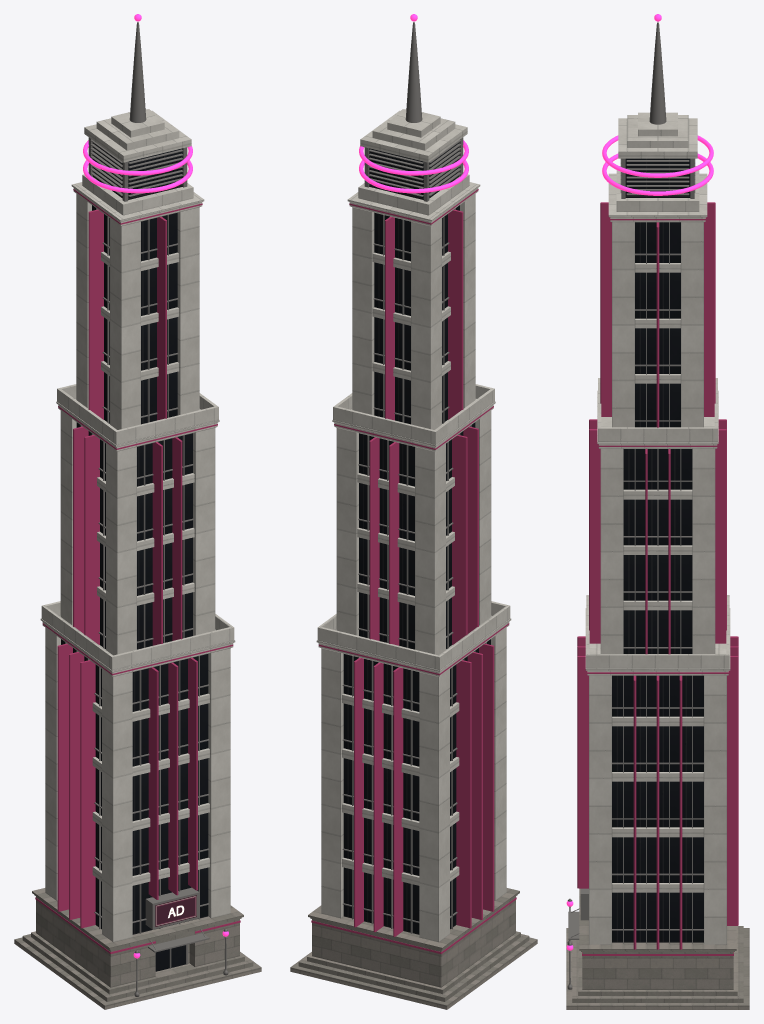
The model's file is s31-aerospace-dao.glb.
3 views of the same model, side by side, from view 1: azimuth 30°, elevation 25°; view 2: azimuth 150°, elevation 25°; view 3: azimuth 270°, elevation 25° (orthographic).
Visible parts, largest first — view 1: Landmark · Aerospace DAO (Series 31); view 2: Landmark · Aerospace DAO (Series 31); view 3: Landmark · Aerospace DAO (Series 31).
Part boxes in pixels (x1=…): Landmark · Aerospace DAO (Series 31): x1=14, y1=14, x2=261, y2=1009; Landmark · Aerospace DAO (Series 31): x1=290, y1=14, x2=537, y2=1009; Landmark · Aerospace DAO (Series 31): x1=566, y1=14, x2=749, y2=1009.
Bounding box in the file's own units: 12 × 69 × 12.
7 materials, 4 textured.
